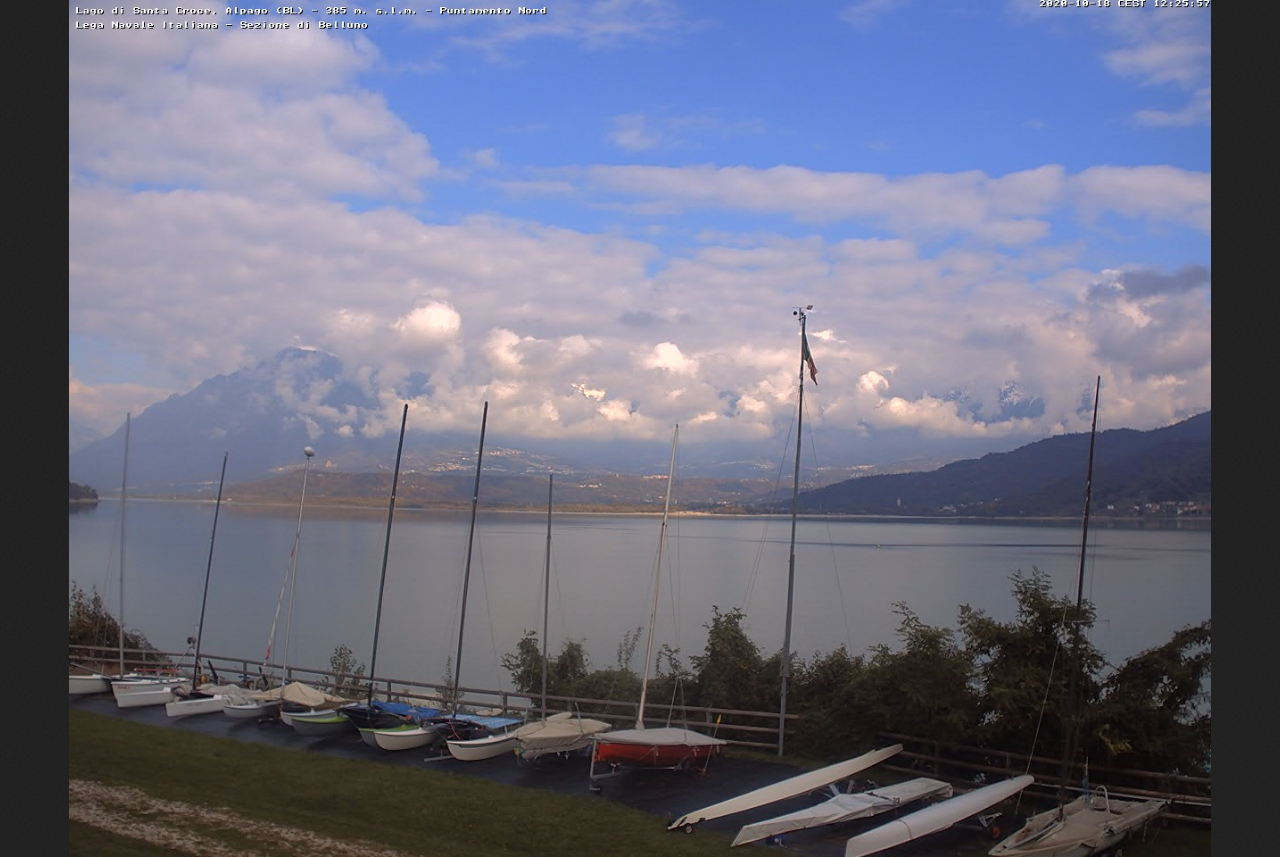no: (801, 319, 818, 386)
